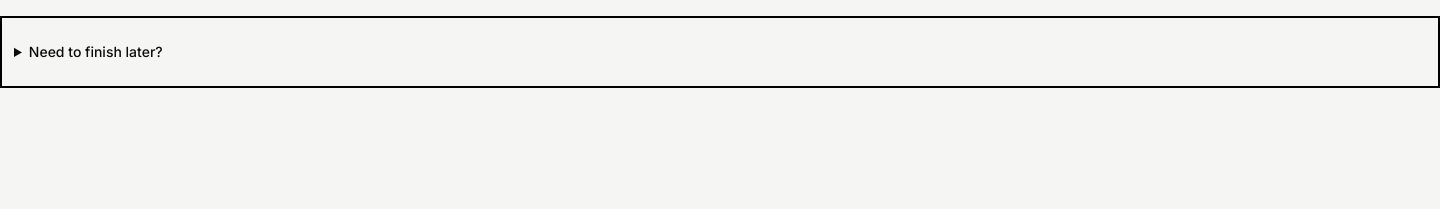
it: conversion-critical checkout › offers recovery when clipboard access fails without claiming unsaved fields are saved
Click the heading "Need to finish later?".
click(96, 52)  # box [29, 43, 163, 60]
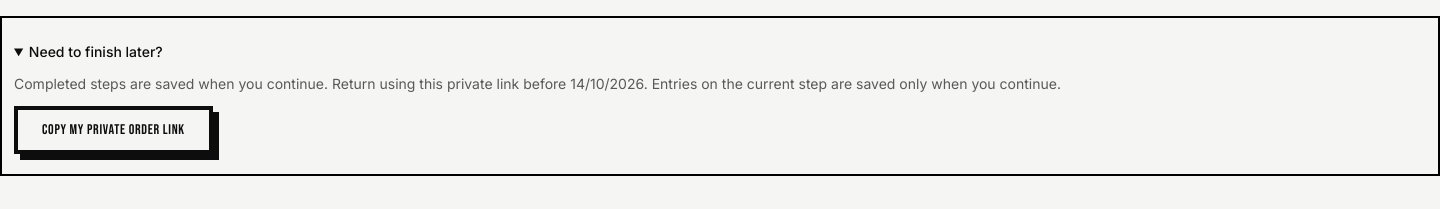
Click the button "Copy my private order link".
click(113, 130)  # box [14, 106, 213, 154]
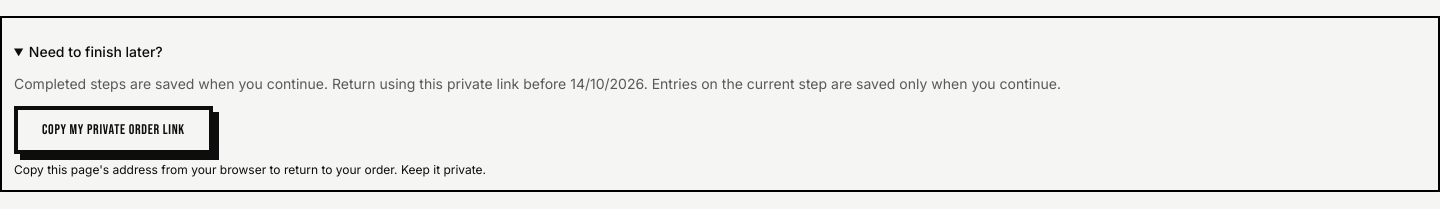
Now the text "Entries on the current step" is shown, box [648, 75, 1061, 92]
Now the text "Copy this page's address" is shown, box [14, 162, 486, 177]
